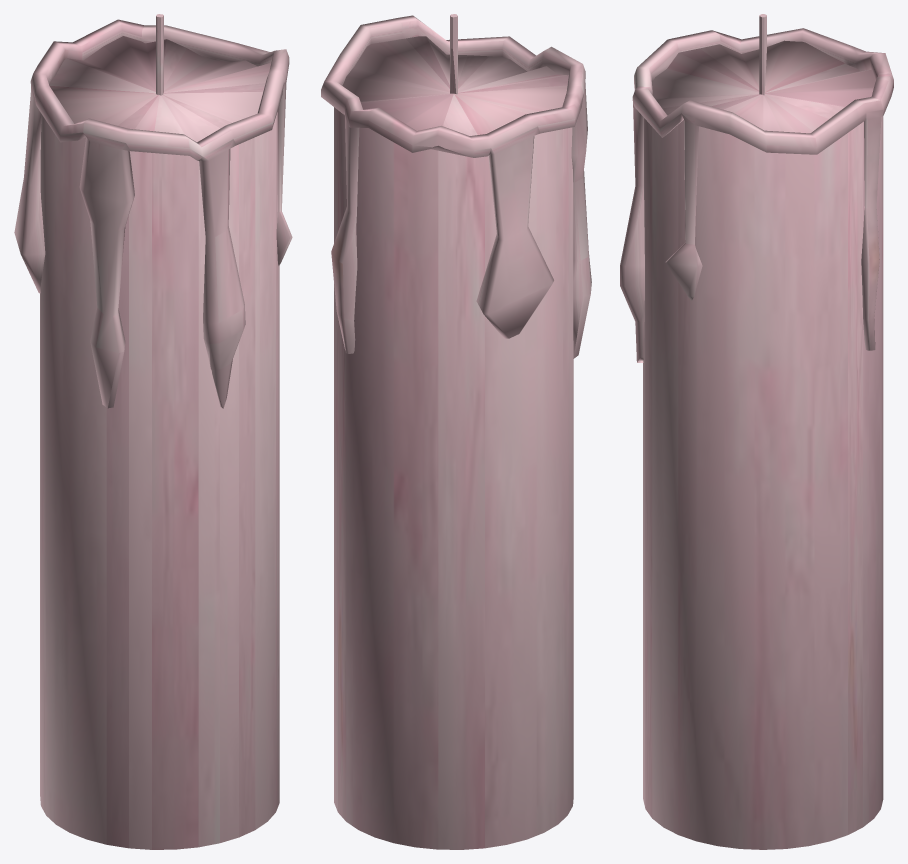
The model's file is kaars.fbx.
The picture shows the model from 3 angles, left to right: view 1: azimuth 30°, elevation 25°; view 2: azimuth 150°, elevation 25°; view 3: azimuth 270°, elevation 25°; orthographic projection.
Visible parts, largest first — view 1: Cylinder; view 2: Cylinder; view 3: Cylinder.
Part boxes in pixels (x1=…): Cylinder: x1=14, y1=14, x2=292, y2=849; Cylinder: x1=321, y1=14, x2=591, y2=849; Cylinder: x1=620, y1=14, x2=893, y2=849.
Bounding box in the file's own units: 125 × 403 × 127.
Materials: 1 (1 with a texture image).
